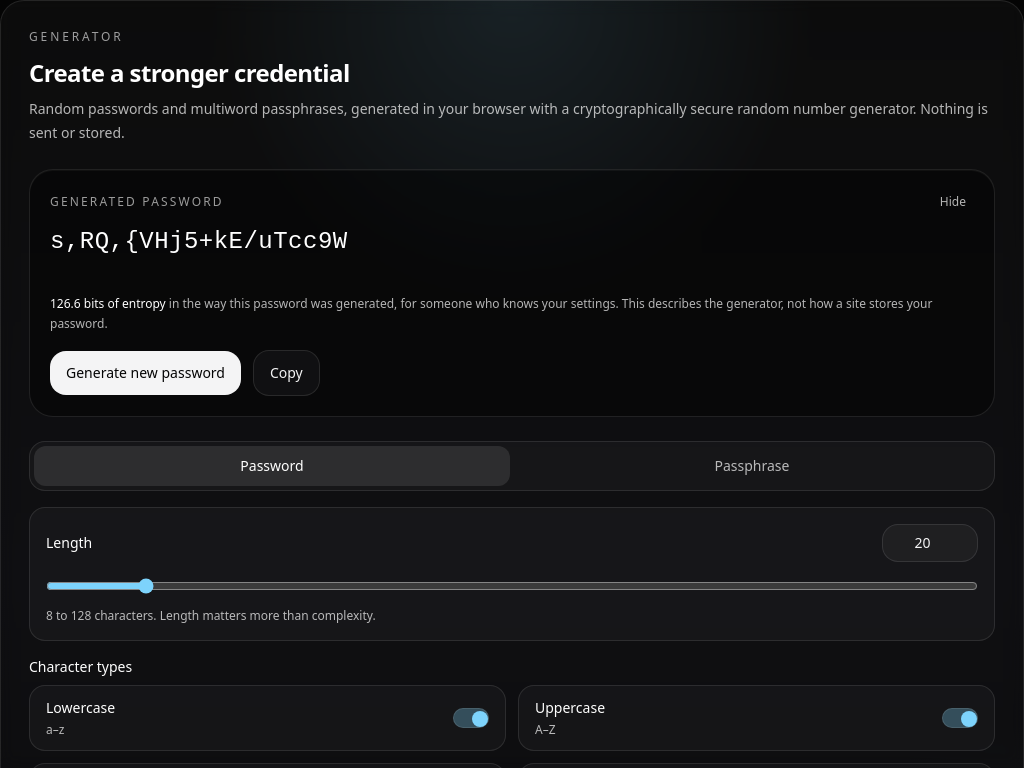
Test: PasswordGenerator: configuration › keeps the slider and the number field in sync
The image size is (1024, 768).
Step 1. Set the slider named "length" to "45" → [336, 586], box [46,578,978,594]
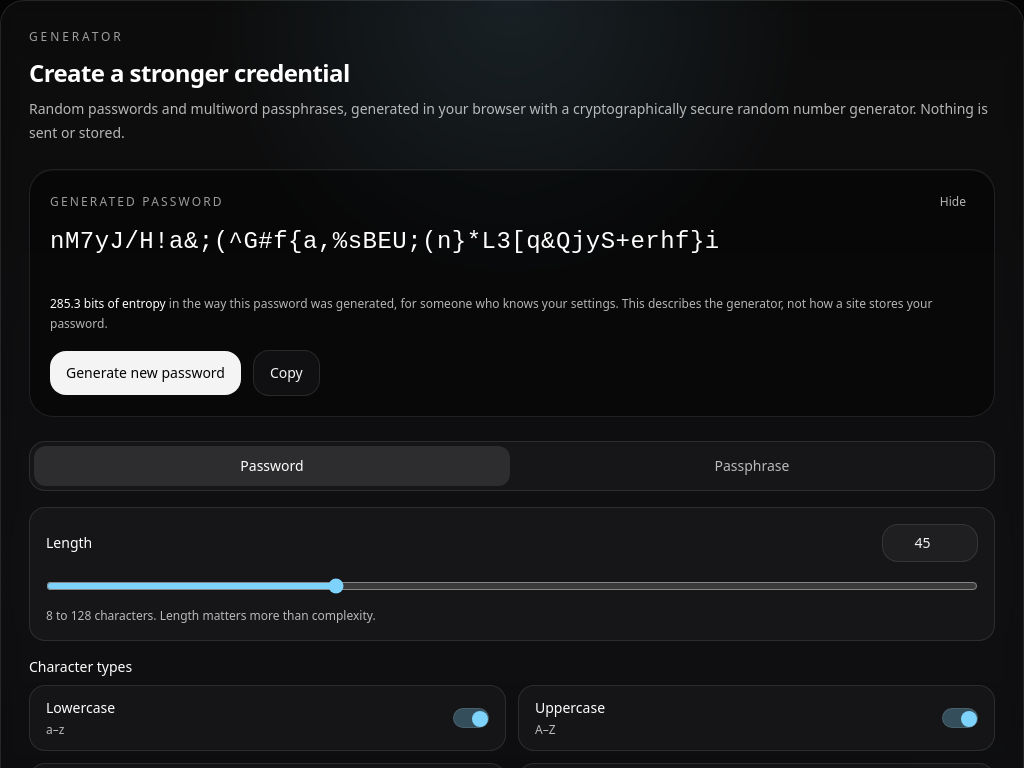
Expected: the number field labelled "Length" holds "45", [882,524,978,562]
